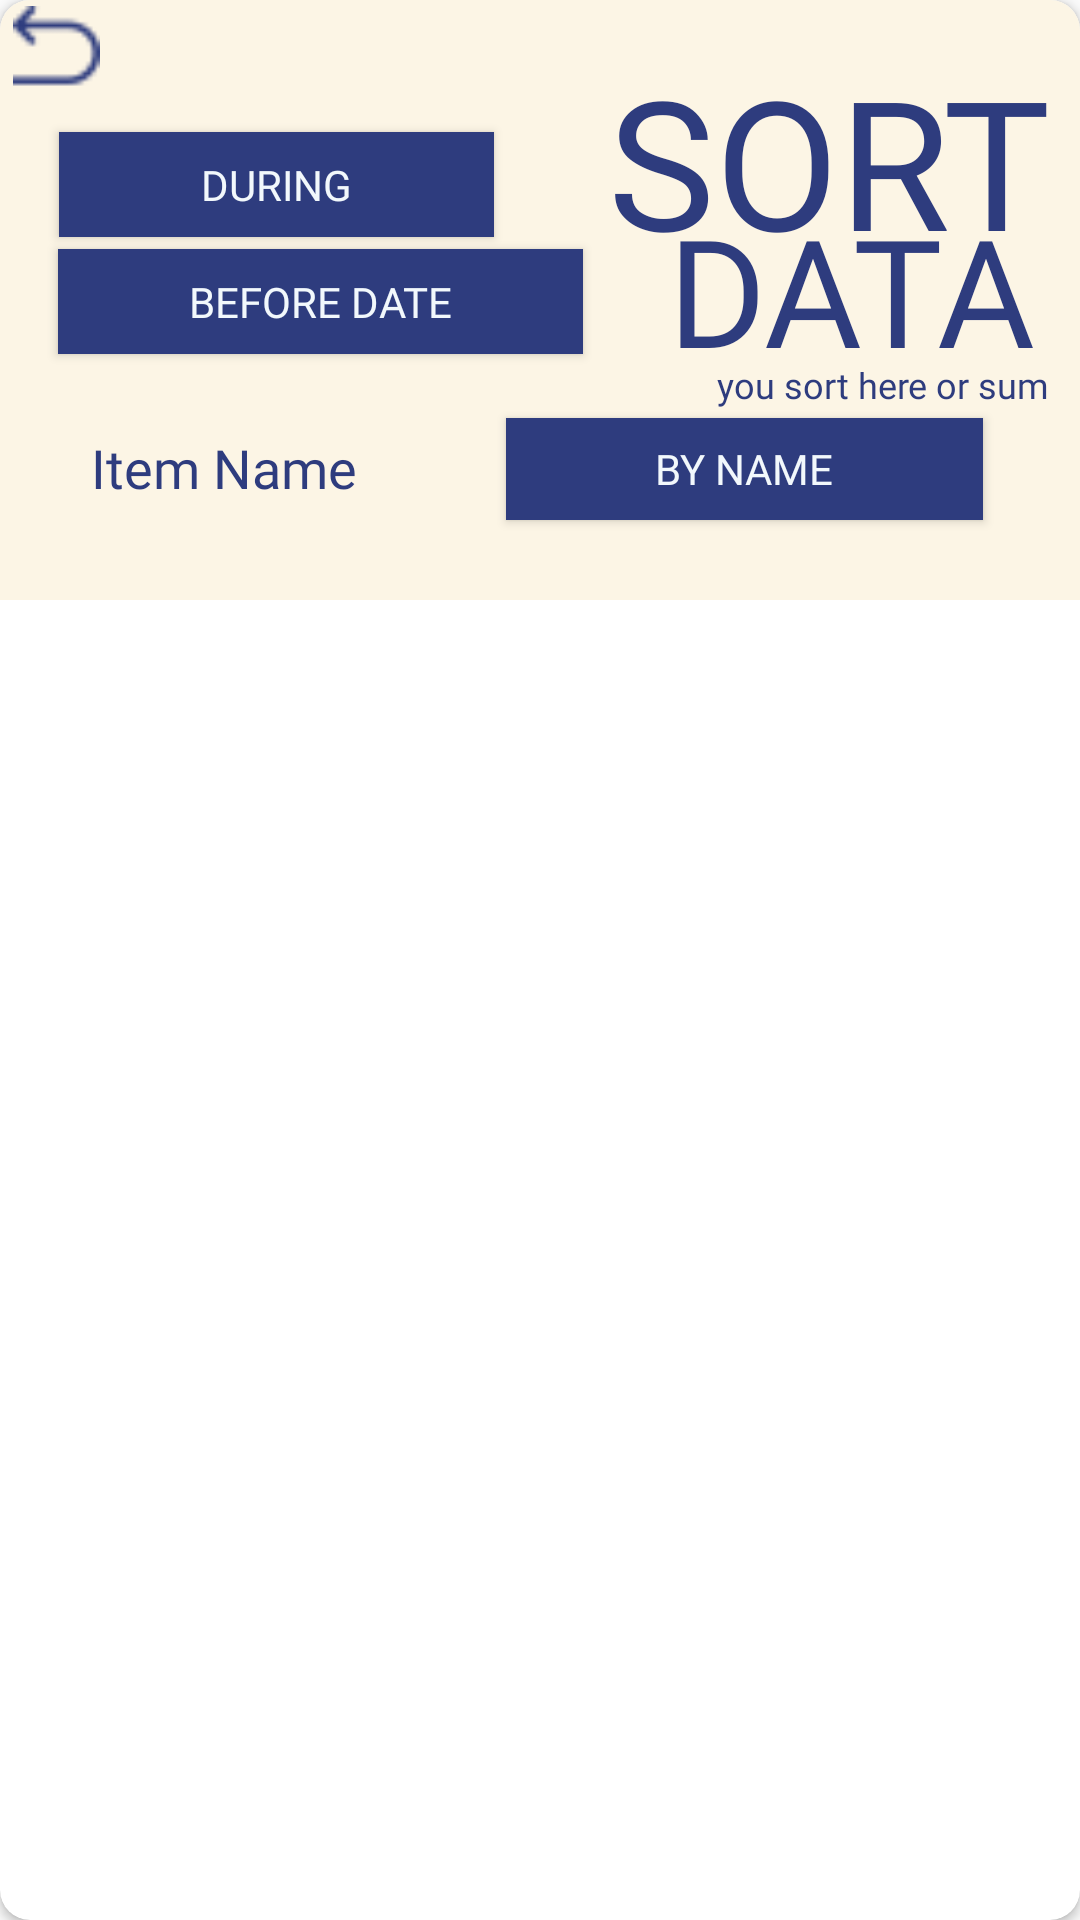

Point at icon controls on the screen. Image size 1080w x 1920h, points as (x=x, y=y).
returnsigma: (x=56, y=43)
